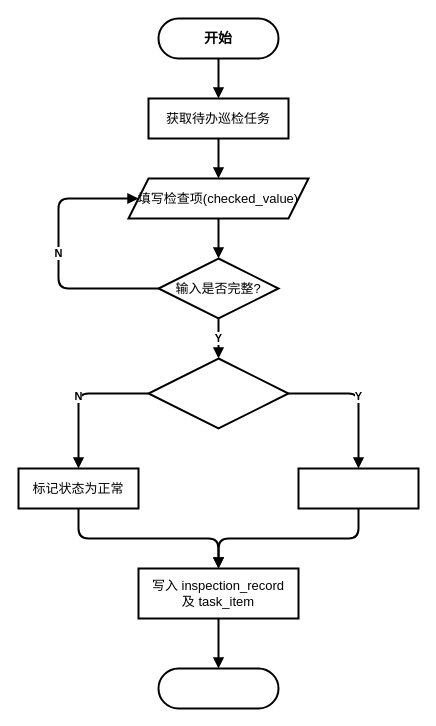
Image size: 436x726. Some labels were removed from this diagram. The centre of each missing label's shape, as x and y in pixels:
标记状态为异常 (need_repair=1): (358,488)
结束: (218,688)
触发 abnormal_rule ?: (218,393)
